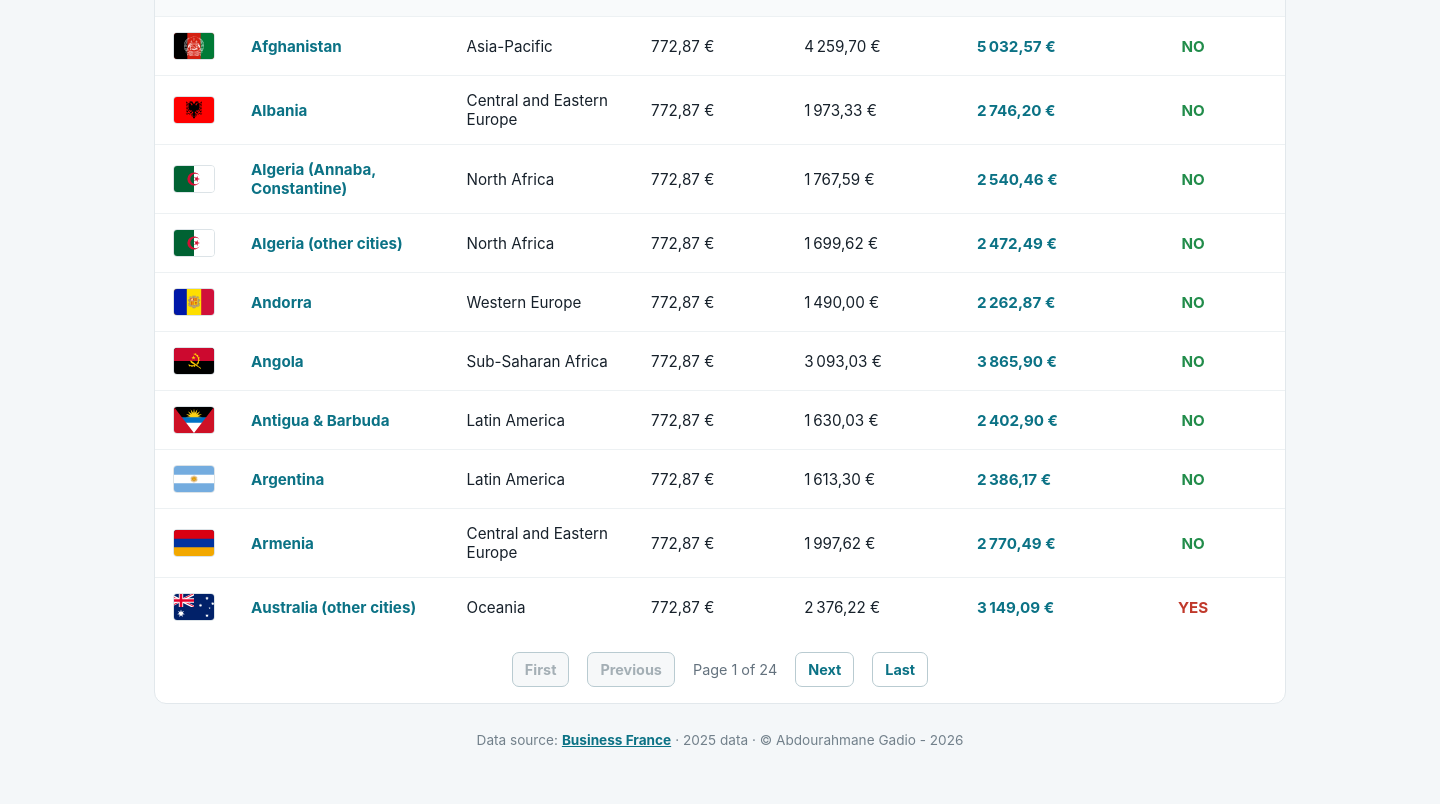
Scenario: Integration tests: V.I.E Comparator › moves to the next page
The image size is (1440, 804).
(page scrolled)
Click the button with test id "next-page". click: click(825, 670)
box: [795,652,854,687]
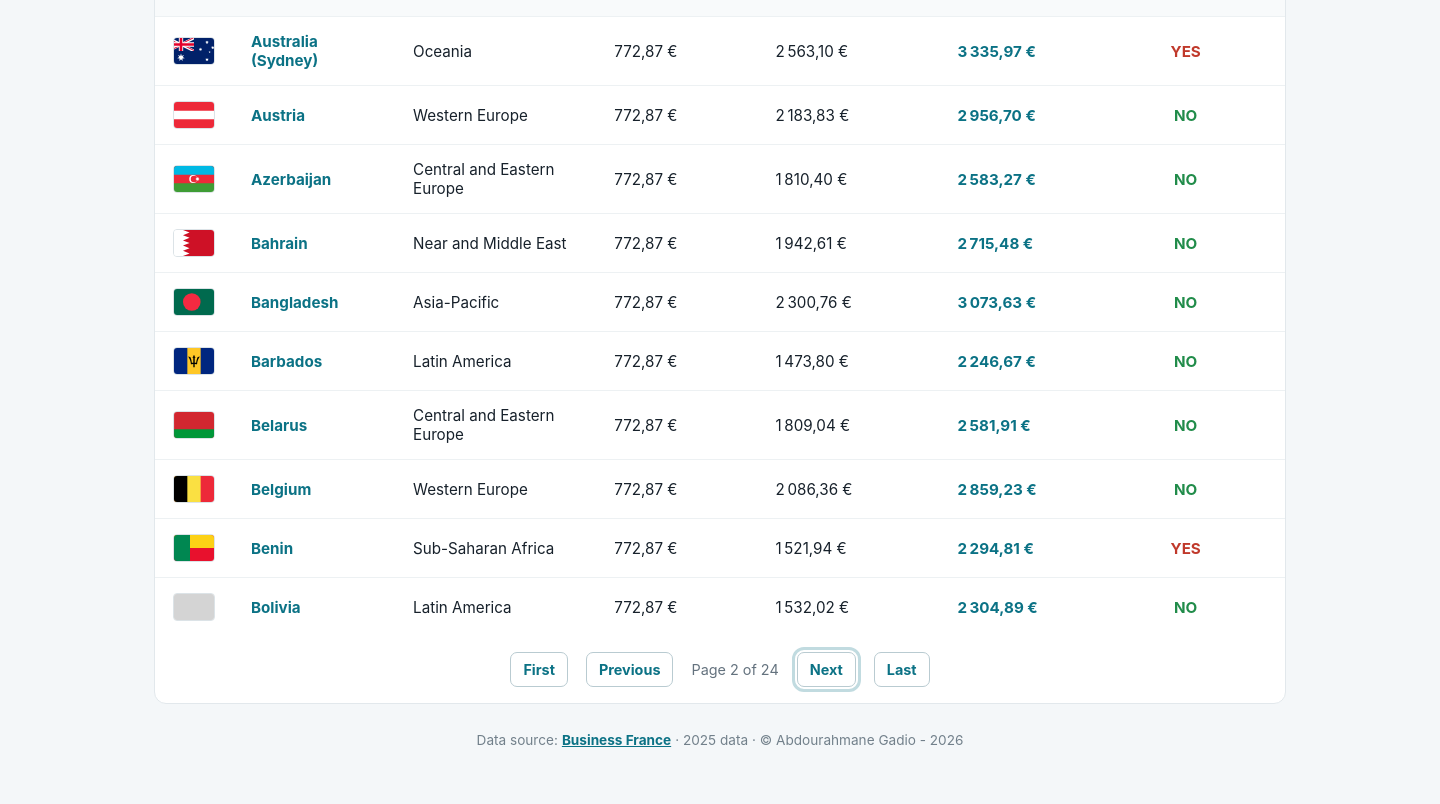
Expected: the text with test id "page-indicator" reads "Page 2 of 24", [692,661,779,678]
Expected: the button "Australia (Sydney)" is shown, [251,32,377,70]
